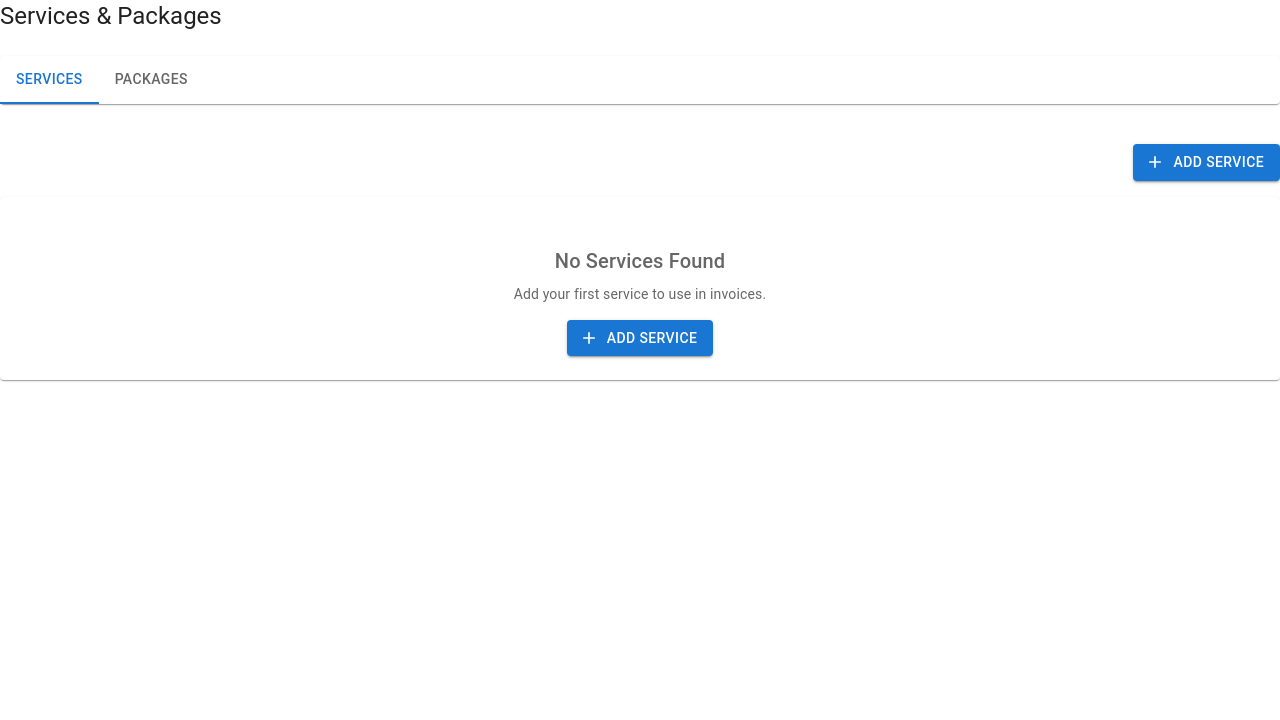
it: Services Component › Services Tab › Add Service Dialog › should open add service dialog when clicking Add Service button
Expected: the heading "No Services Found" is shown, top-left (555, 248), bottom-right (725, 272)
Click the 1st button "Add Service" at (1207,162), box top-left (1133, 144), bottom-right (1279, 180)
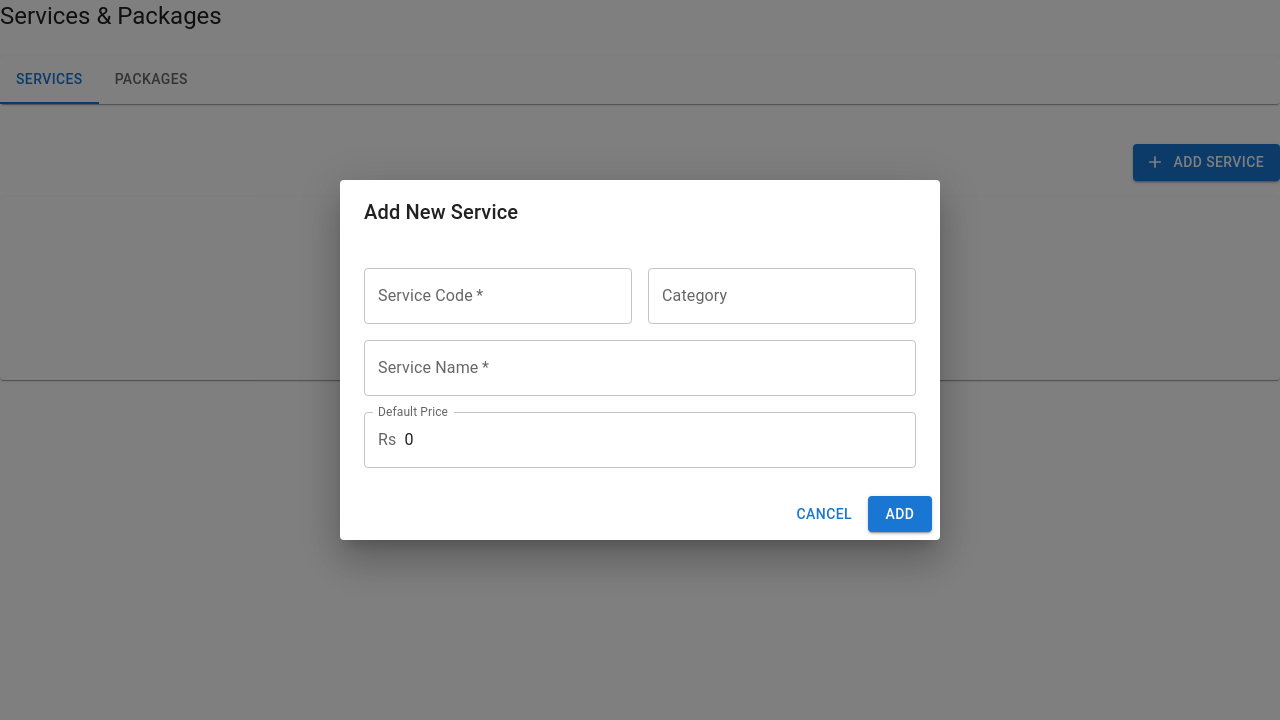
Expected: the heading "Add New Service" is shown, top-left (364, 200), bottom-right (518, 224)
Expected: the field labelled "Service Code *" is shown, top-left (364, 268), bottom-right (632, 324)
Expected: the field labelled "Service Name *" is shown, top-left (364, 340), bottom-right (916, 396)
